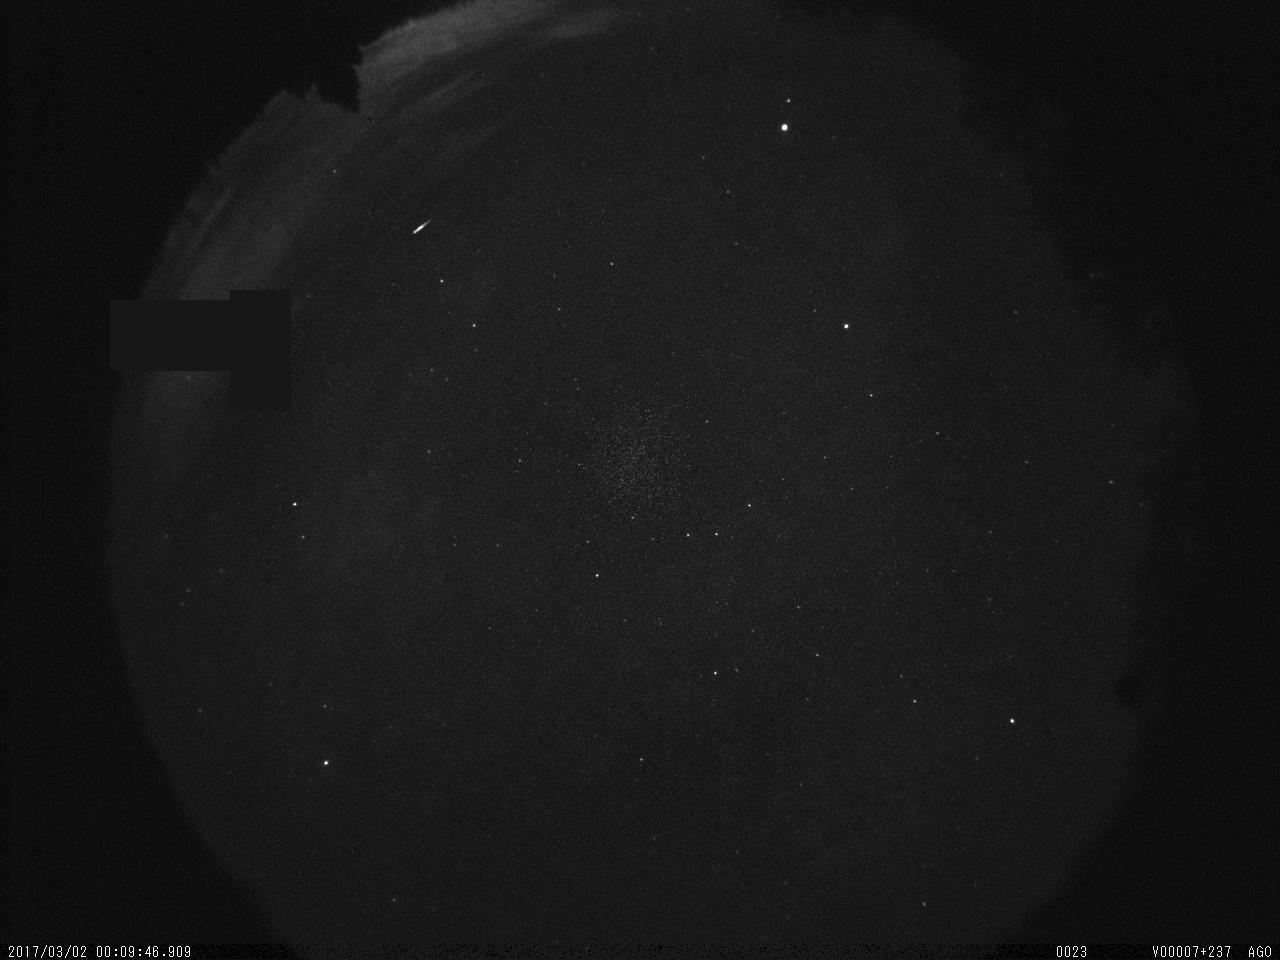meteor: (409, 215, 436, 237)
